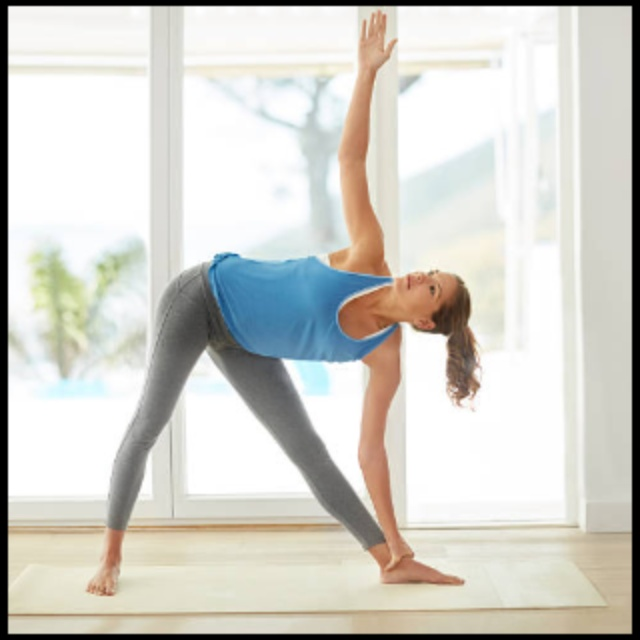Triangle_Pose: (60, 5, 480, 601)
